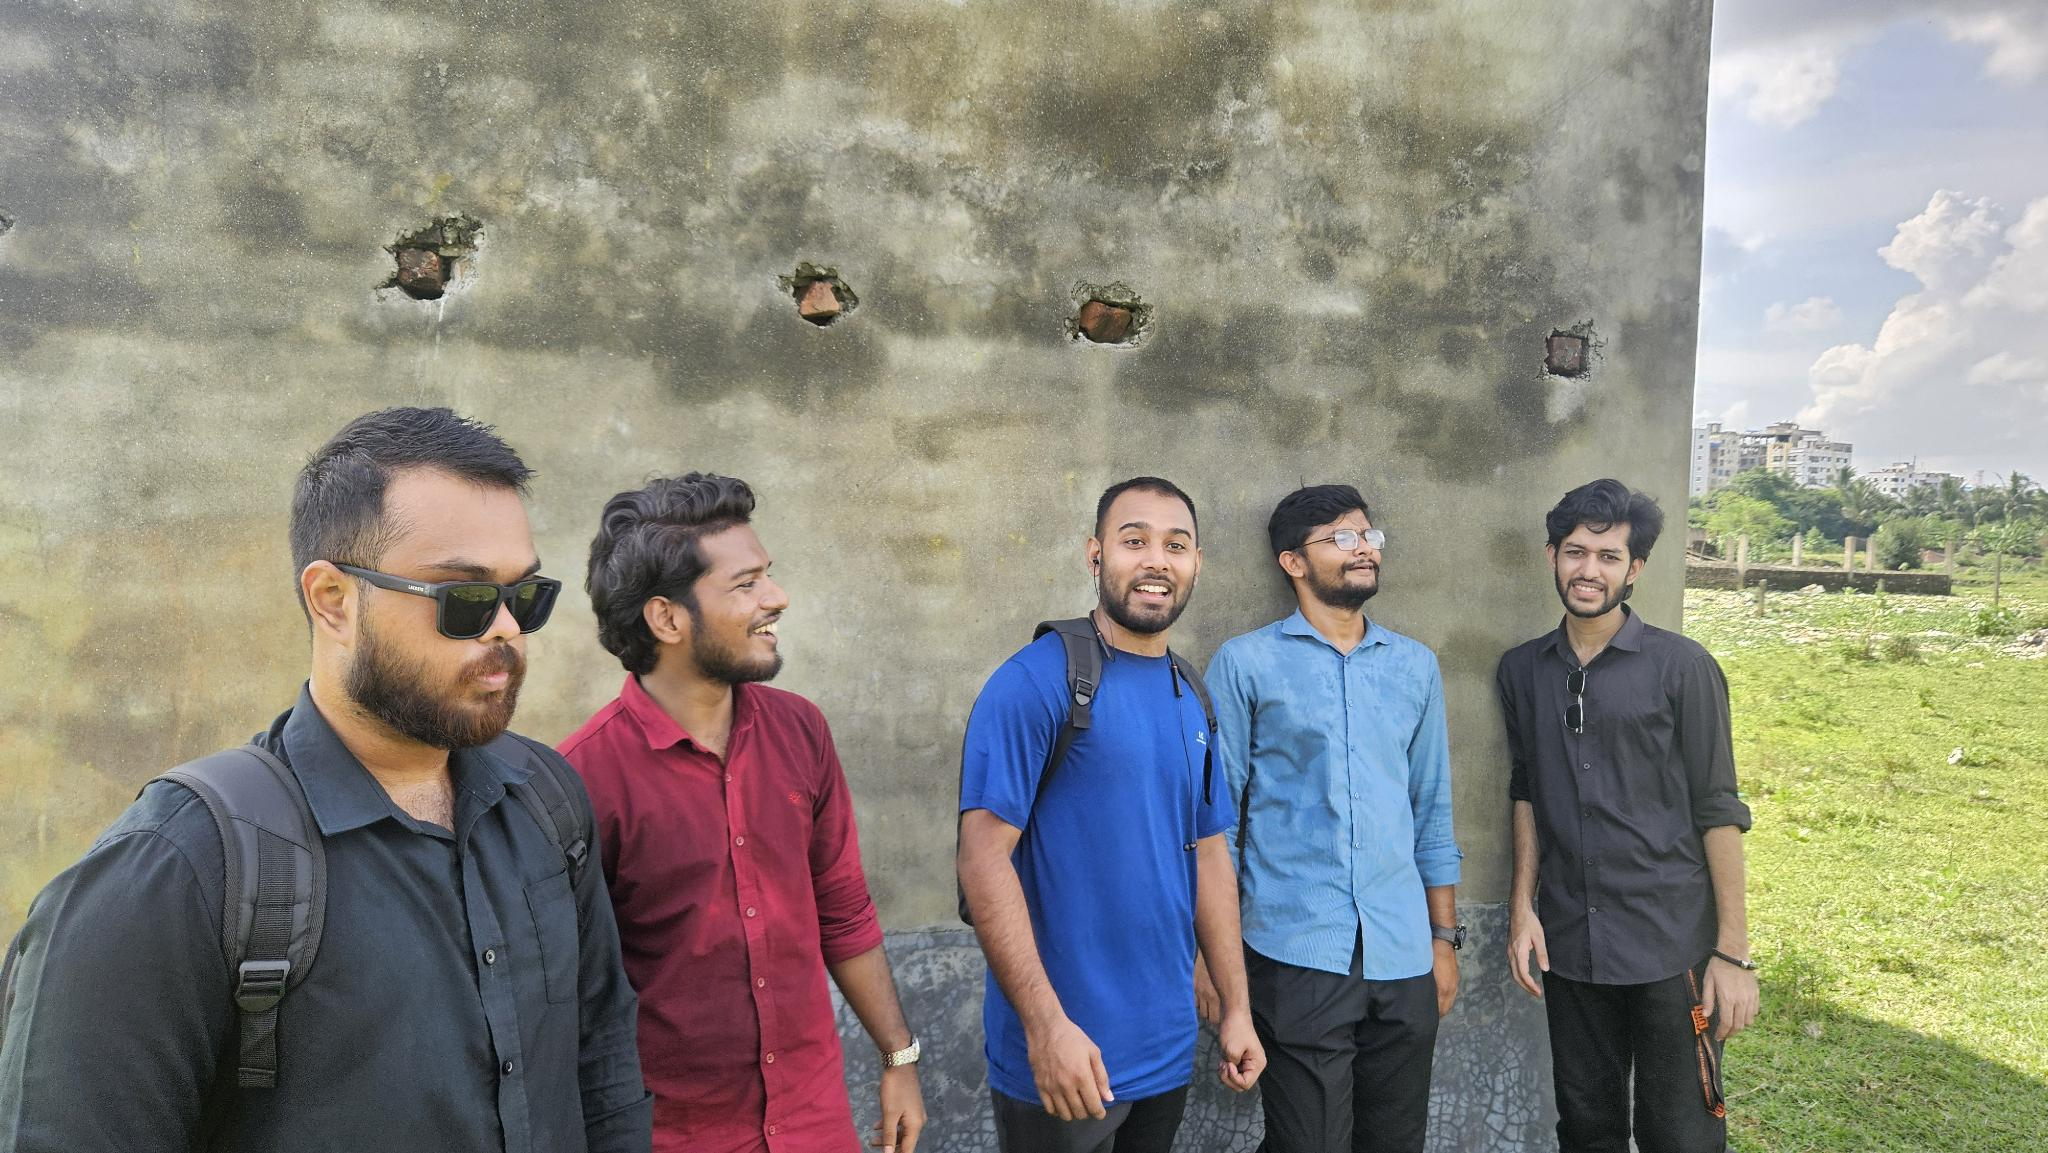nonSmoker: (0, 399, 655, 1153), (570, 467, 931, 1153), (948, 477, 1265, 1153), (1499, 475, 1762, 1153), (1203, 484, 1464, 1153)
